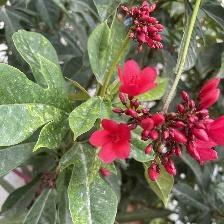jatropha: (92, 114, 136, 164)
